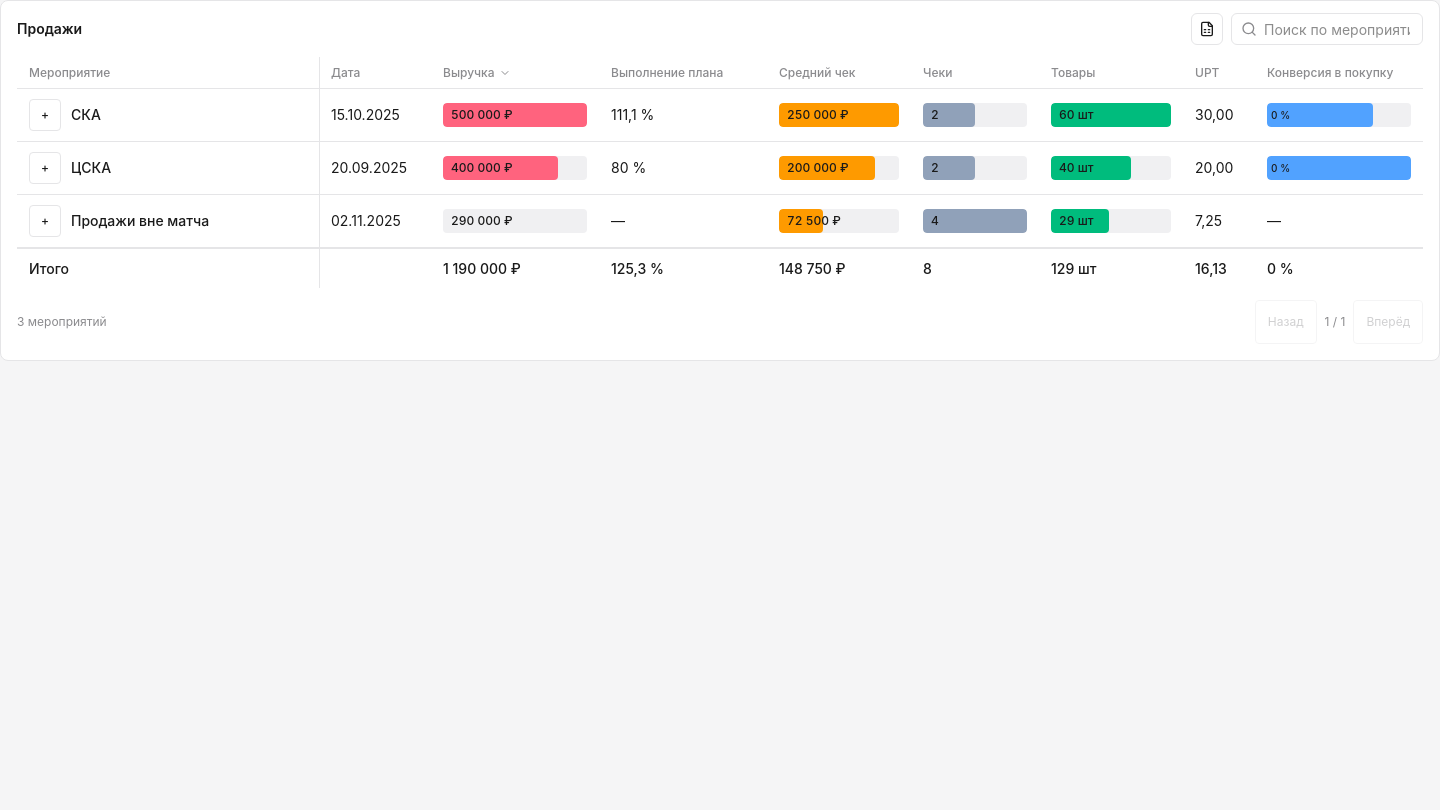
Scenario: MerchMatchSalesTable drill-down › shows em dash in Выполнение плана on section headers and children
Click the button "+" in the row of "15.10.2025" at (45, 115), box [29,99,61,131]
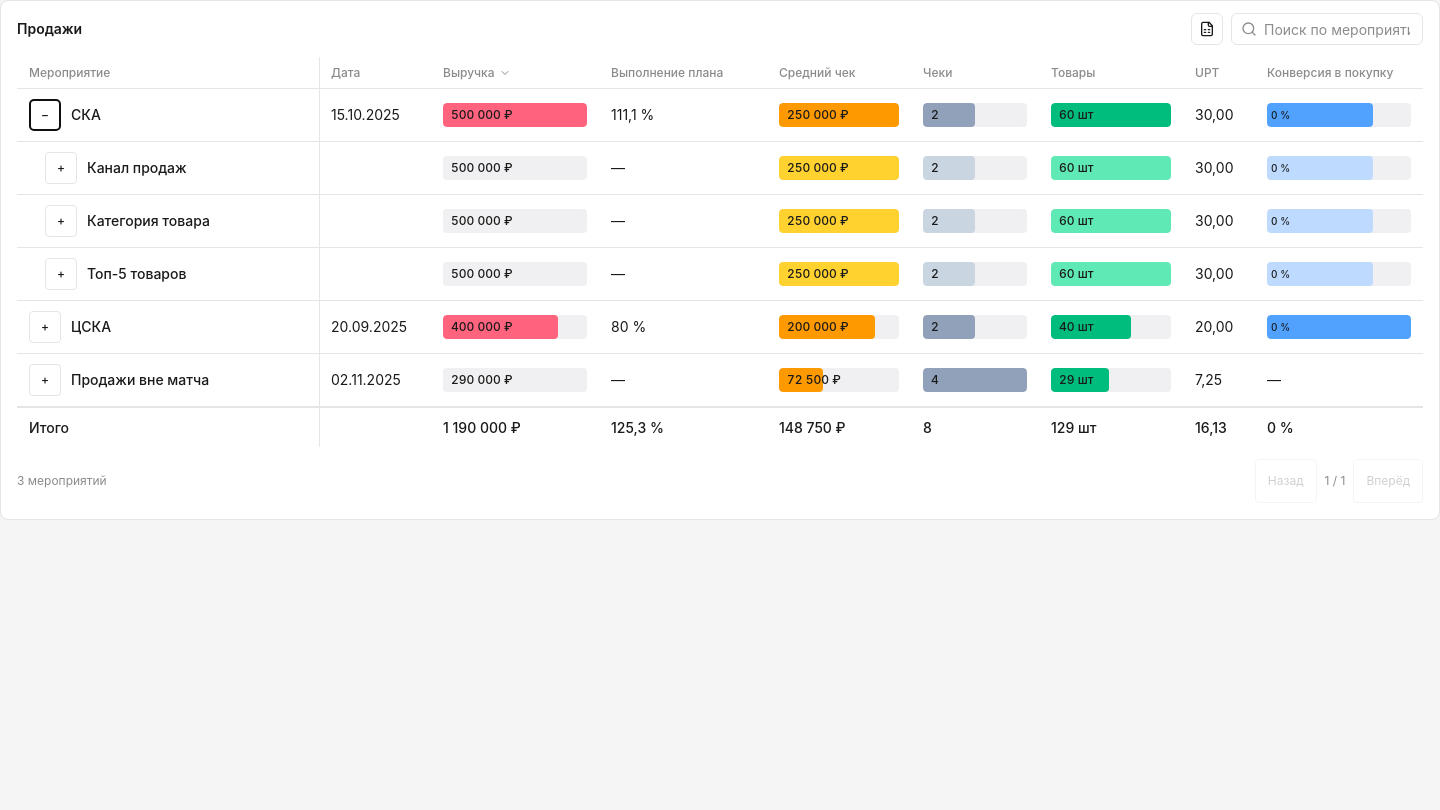
Click the button "+" next to "Канал продаж" at (61, 168), box [45,152,77,184]
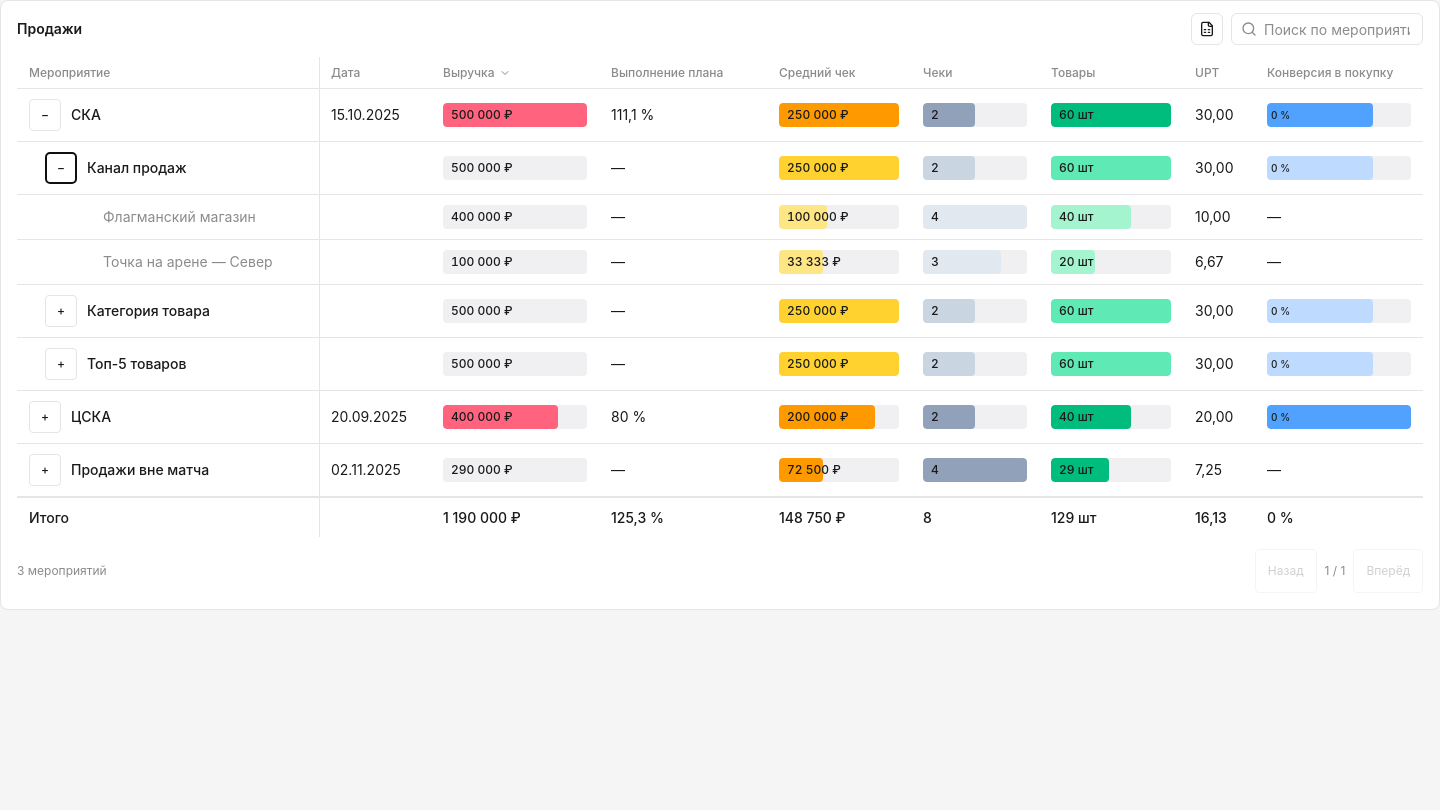
Expected: the text "СКА" is shown, [71,106,101,123]
Now the text "Канал продаж" is shown, box [87,159,187,176]
Now the text "Флагманский магазин" is shown, box [103,208,256,225]
